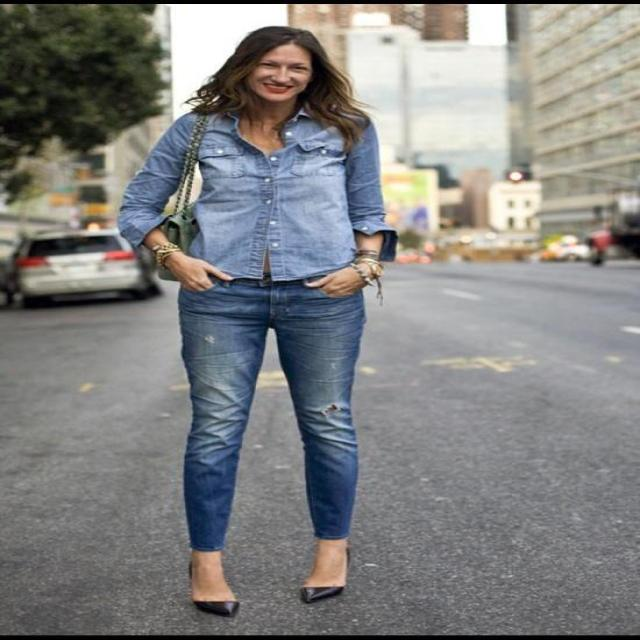pants: (180, 264, 370, 554)
shirt: (114, 106, 400, 282)
